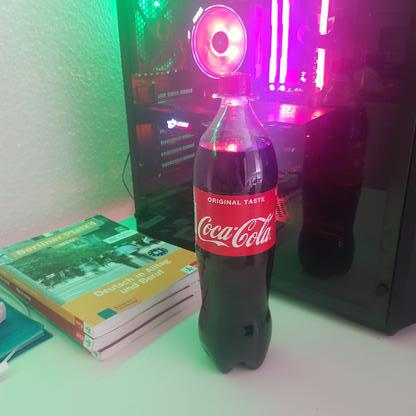coca-cola: (192, 71, 281, 376)
